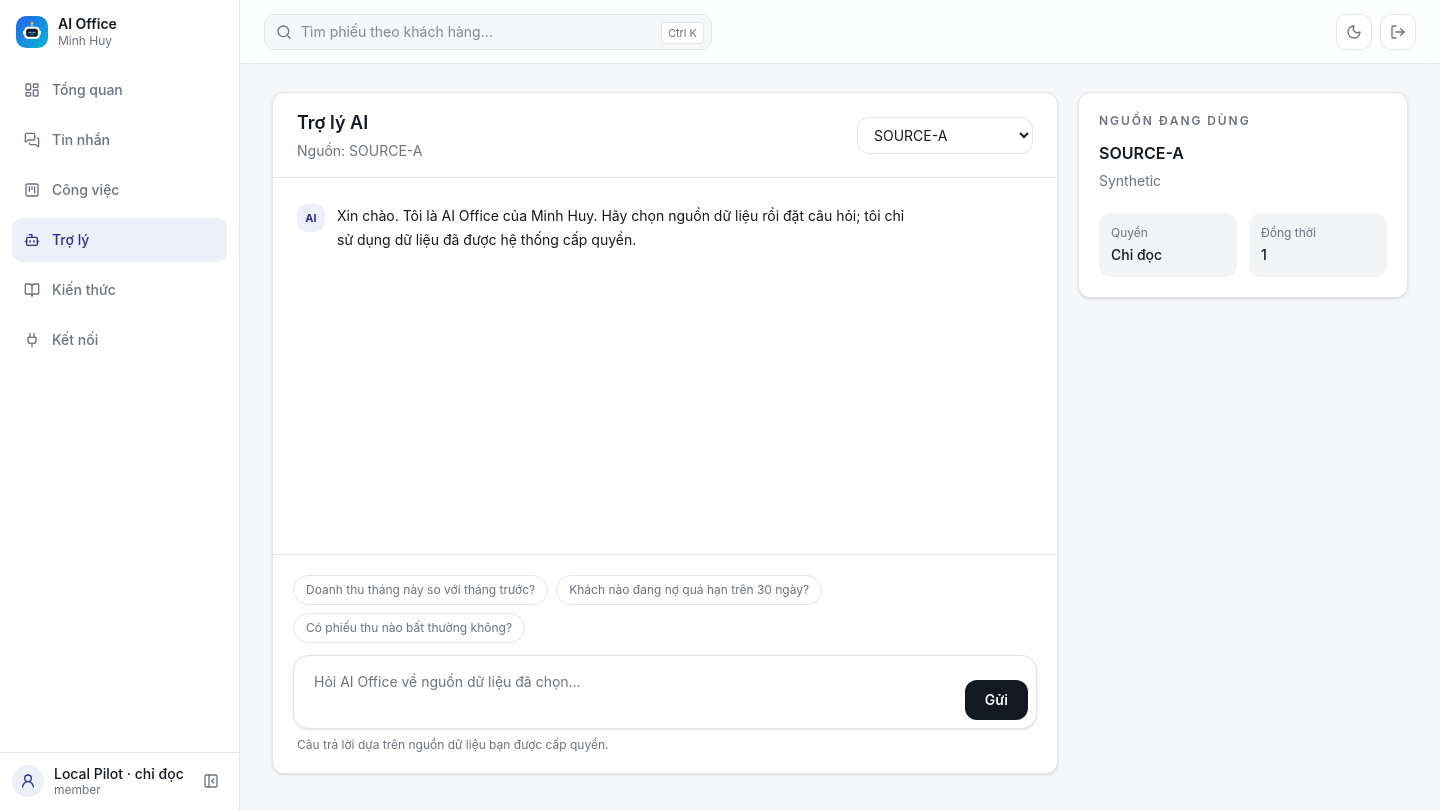
keeps private data cleared and reports http logout failure
The image size is (1440, 810).
Type "PRIVATE-A-QUESTION" into the text box named "question". click: (627, 692)
box: x1=302 y1=664 x2=953 y2=720
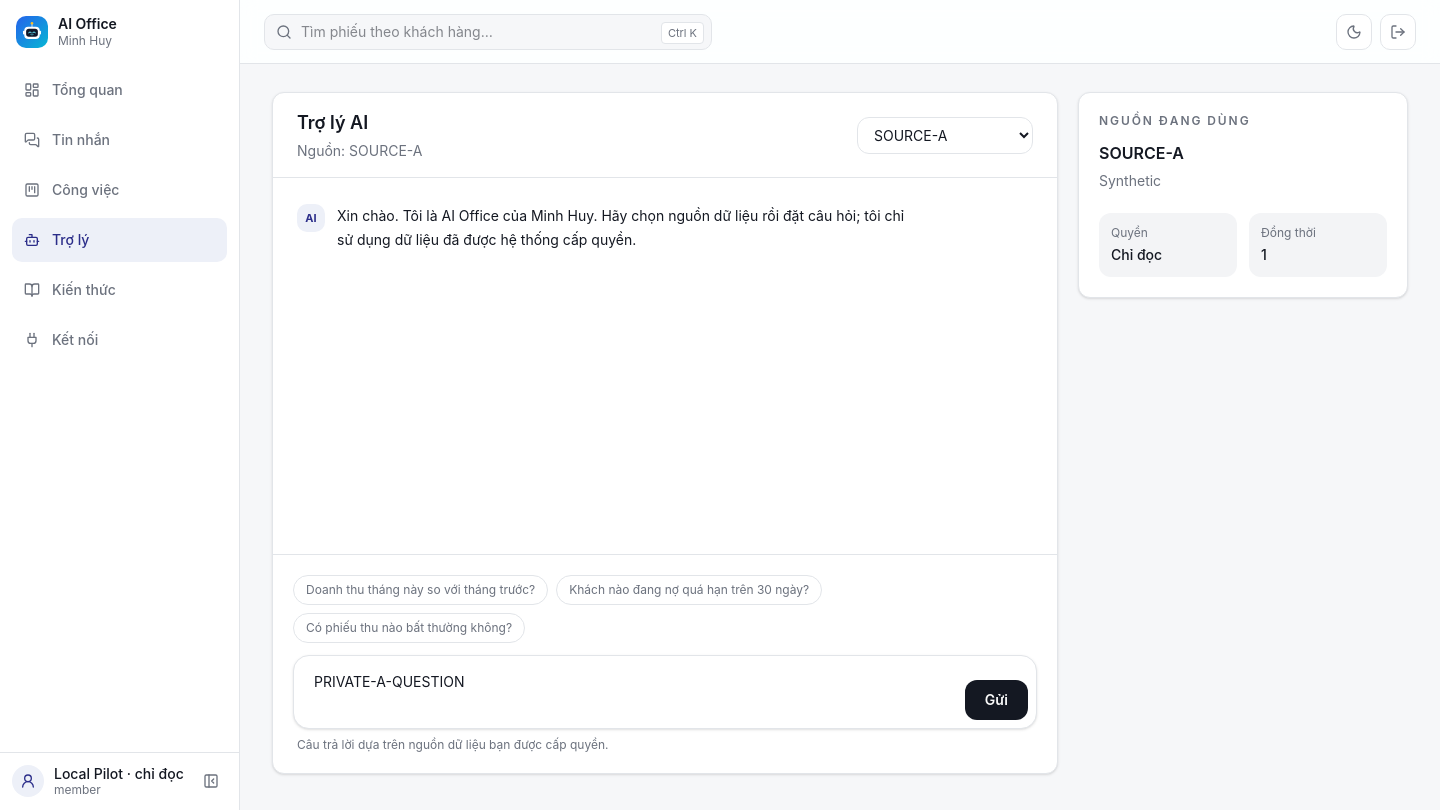
Submit the form named "question", box x1=273 y1=554 x2=1057 y2=773
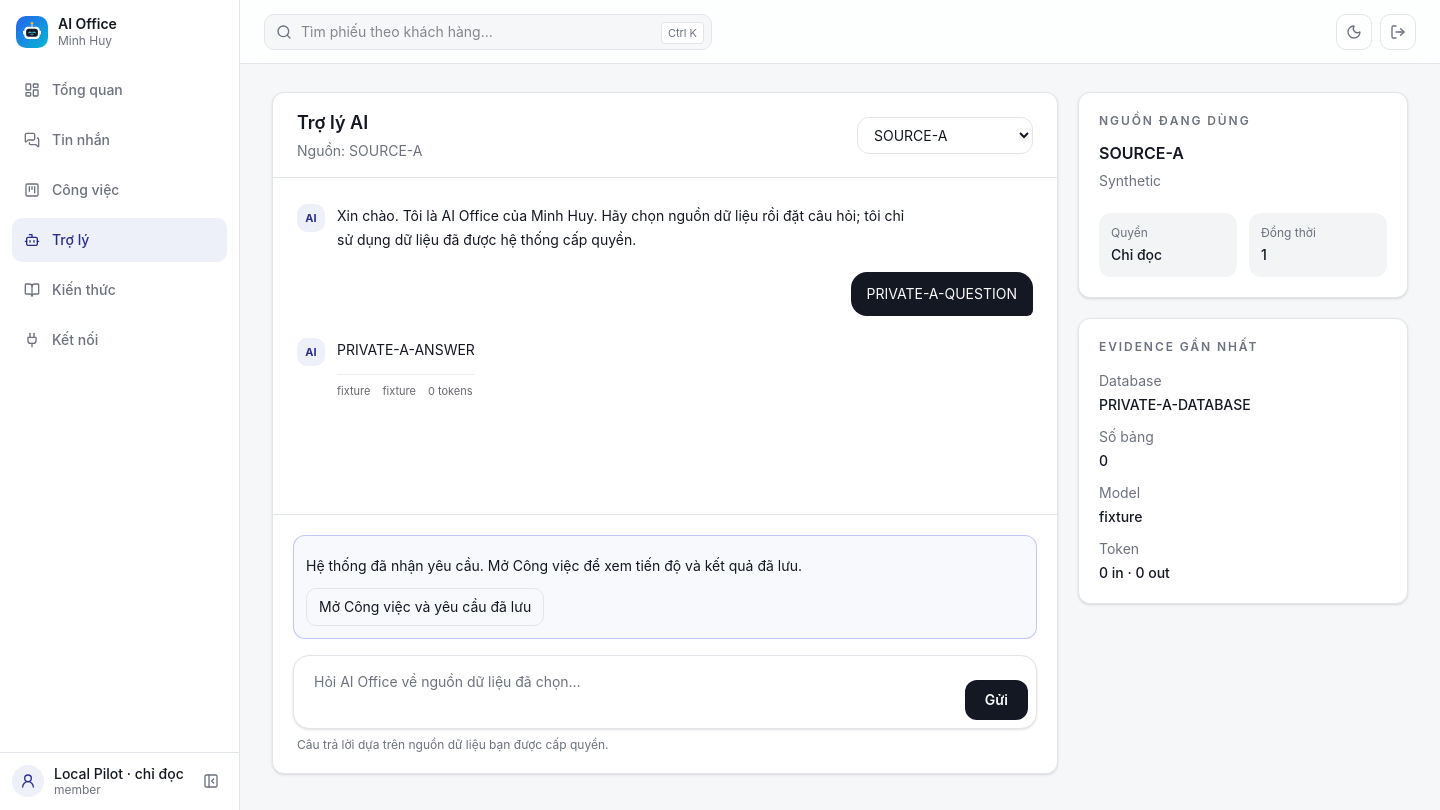
Expected: the text "PRIVATE-A-ANSWER" is shown, x1=337 y1=338 x2=475 y2=362
Click the button named "Đăng xuất". click: (1398, 32)
box: x1=1380 y1=14 x2=1416 y2=50
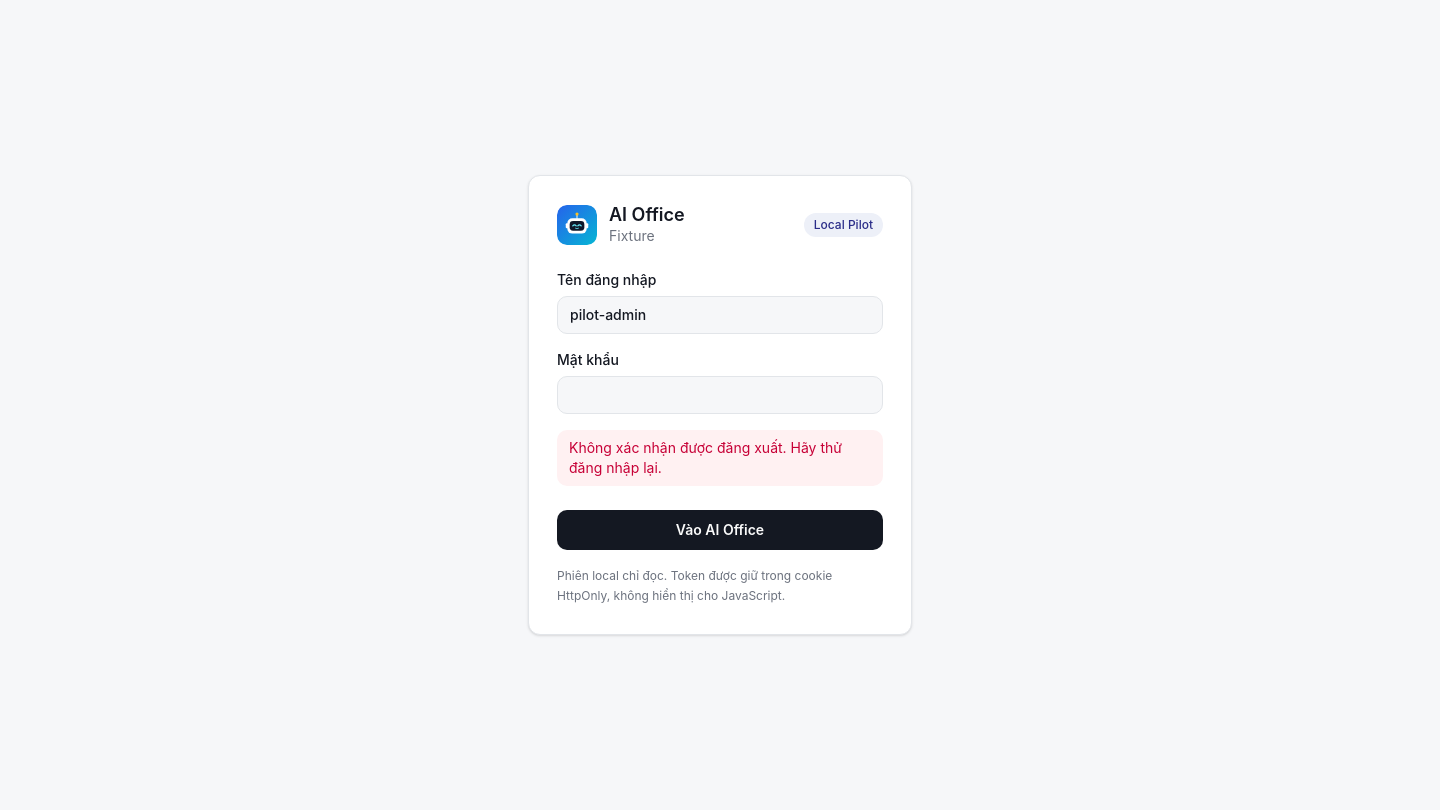
Expected: the message "Không xác nhận được đăng xuất. Hãy thử đăng nhập lại." is shown, x1=557 y1=430 x2=883 y2=486
Expected: the text "PRIVATE-A-QUESTION" is gone
Expected: the text "PRIVATE-A-ANSWER" is gone
